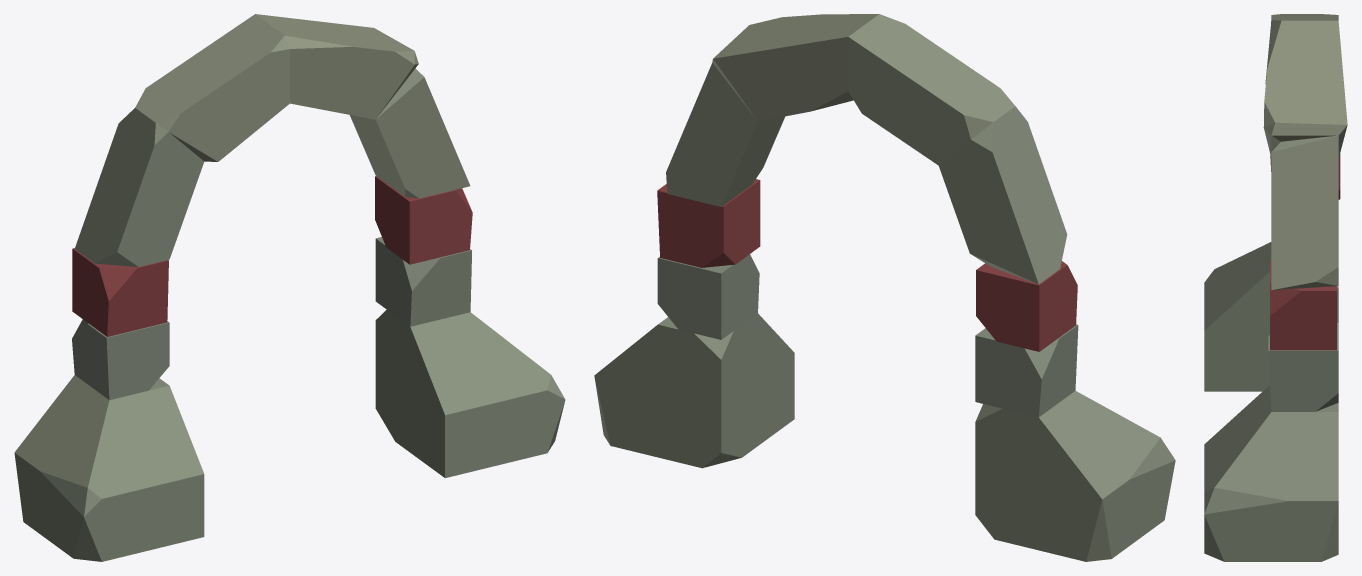
The model's file is door_arch_single_short.fbx.
The picture shows the model from 3 angles, left to right: view 1: azimuth 30°, elevation 25°; view 2: azimuth 150°, elevation 25°; view 3: azimuth 270°, elevation 25°; orthographic projection. The views are drawn at different scales.
Parts seen in each view (by area): view 1: door_arch_single_short; view 2: door_arch_single_short; view 3: door_arch_single_short.
Boxes of the visible parts, x1,y1,x2,y2 form: door_arch_single_short: (14,14,565,561); door_arch_single_short: (594,14,1175,561); door_arch_single_short: (1204,14,1347,561).
Size of the model in its own units: 200 by 176 by 53.36.
